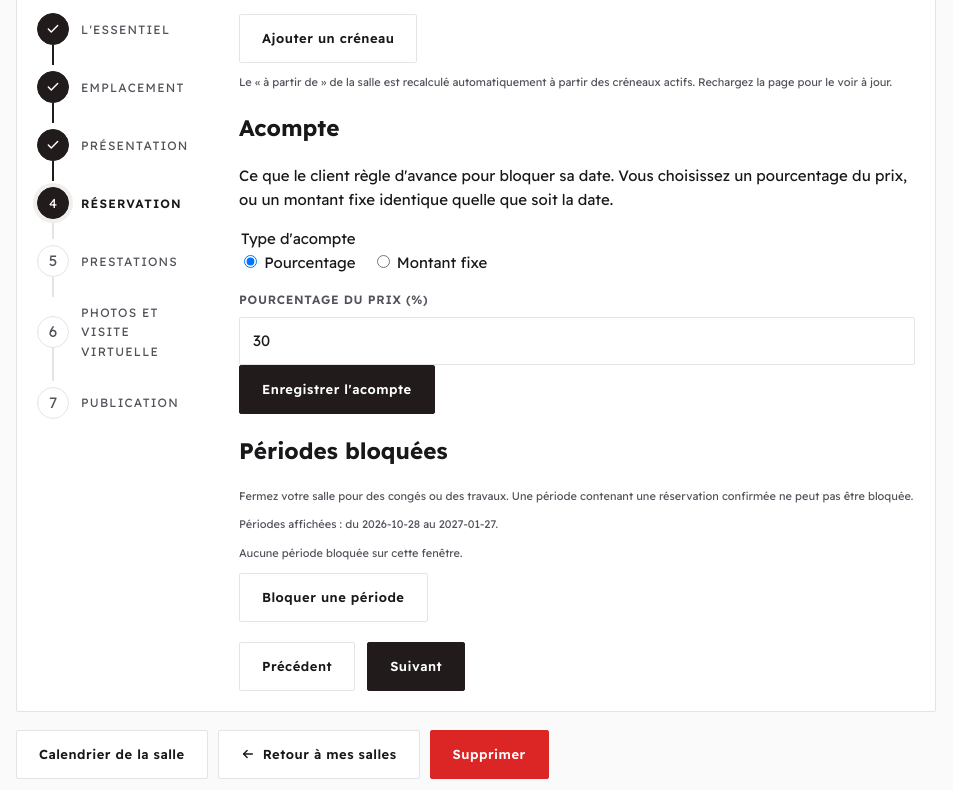
Test case: Volet blocages — conflits et levée › un 409 AVAILABILITY_BLOCK_CONFLICT s'affiche et n'ajoute RIEN à la liste
(page scrolled)
Click the button "Bloquer une période" at (333, 598), box [239,573,428,622]
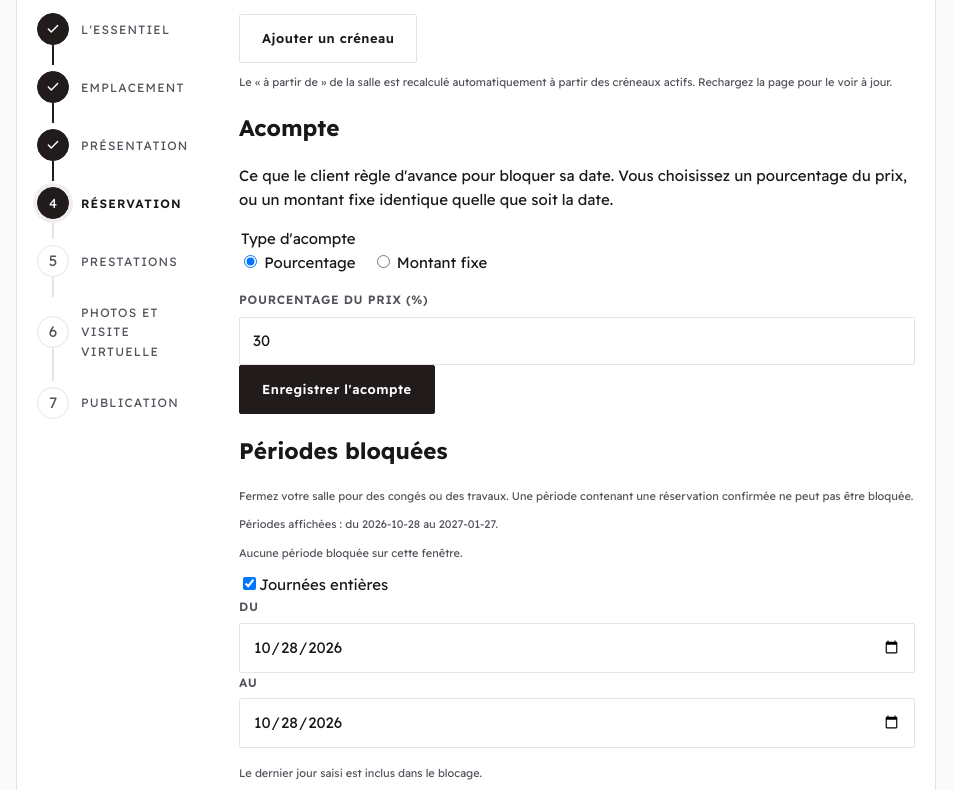
Type "2027-08-03" into the date field labelled "Du" at (577, 648), box [239,623,915,673]
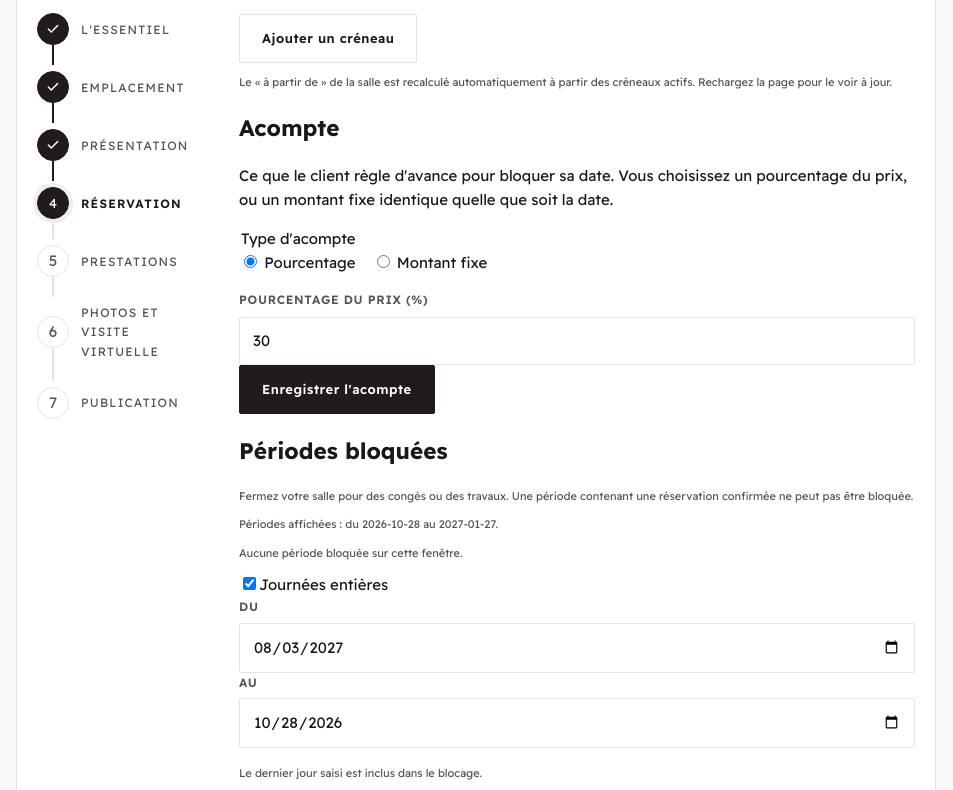
Type "2027-08-03" into the date field labelled "Au" at (577, 723), box [239,698,915,748]
(page scrolled)
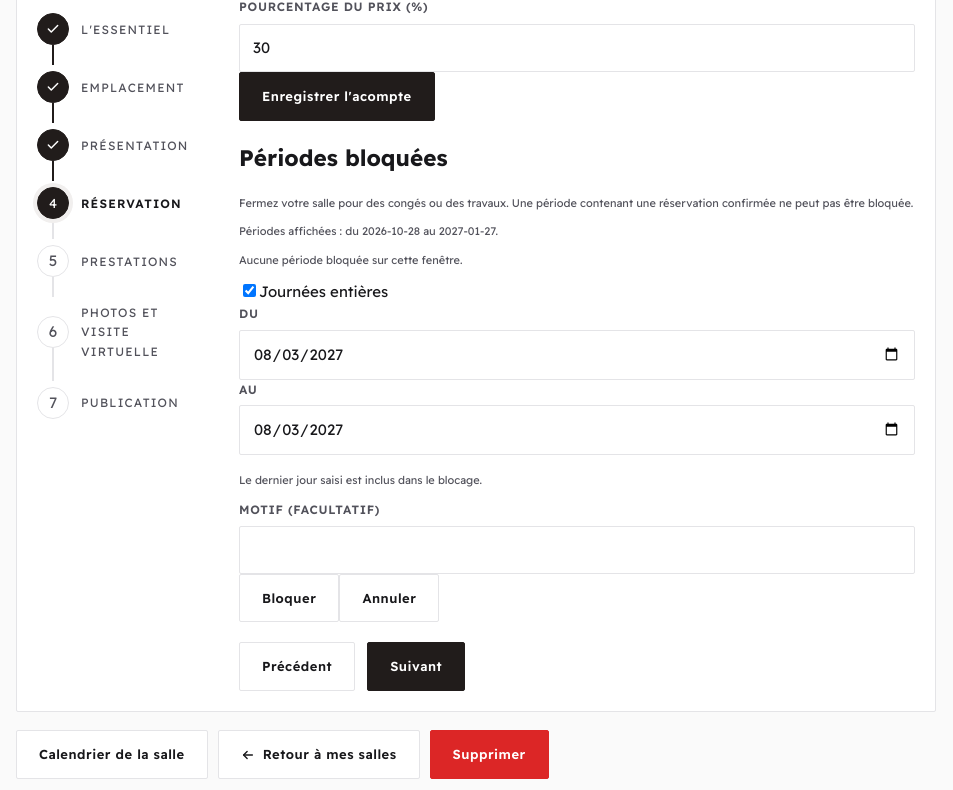
Click the button "Bloquer" at (289, 598), box [239,574,339,622]
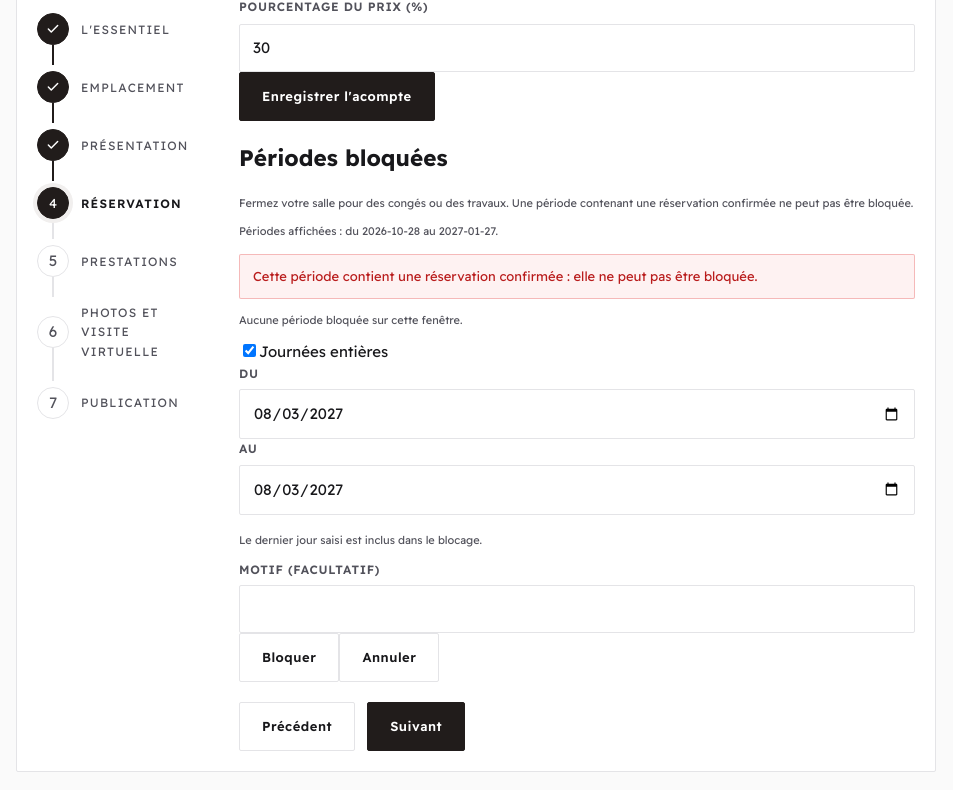
Check: the message is shown, box [239,254,915,299]
